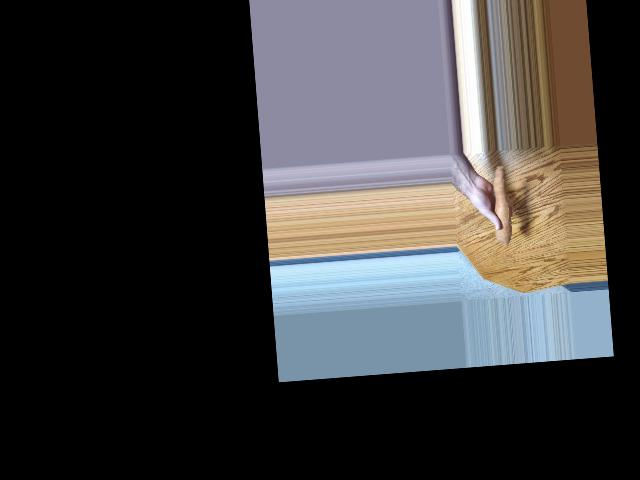sweet_potato: (487, 165, 515, 241)
